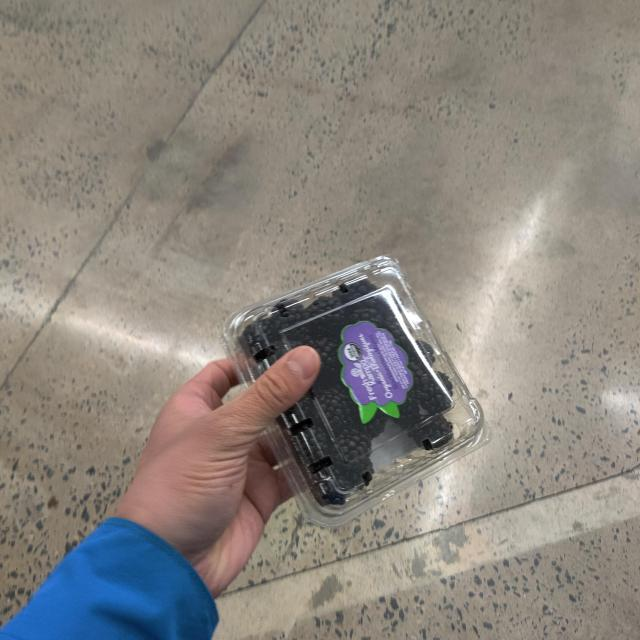Blackberries: (237, 269, 479, 519)
